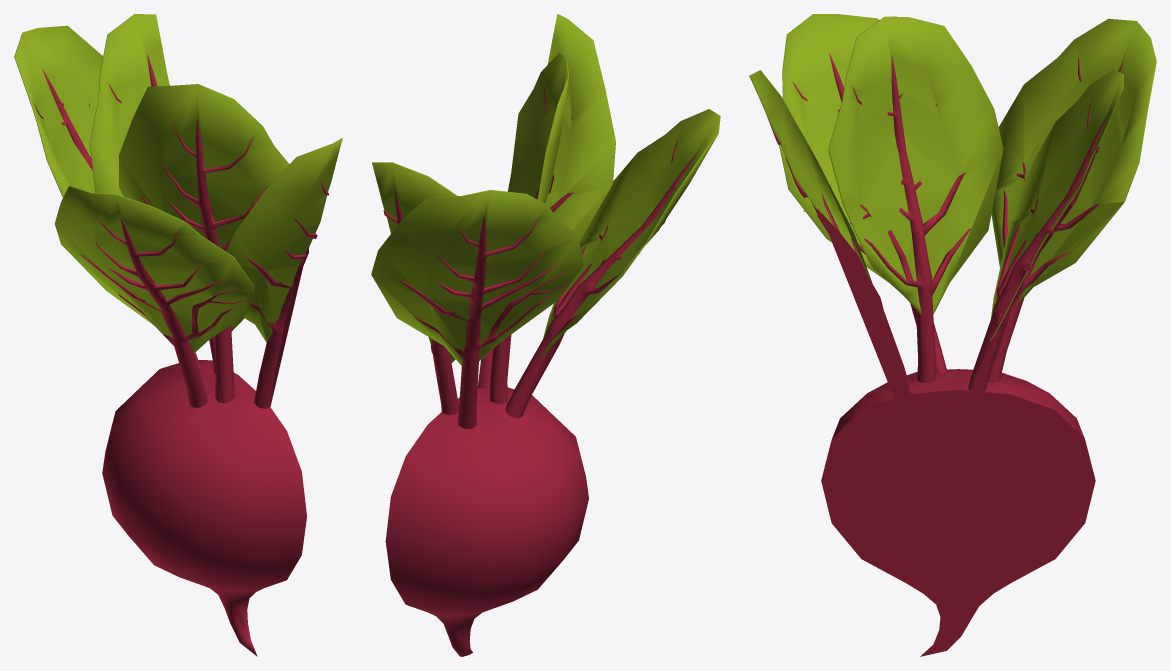
File: Beet-05_R.fbx
3 renders of one model, left to right at view 1: azimuth 30°, elevation 25°; view 2: azimuth 150°, elevation 25°; view 3: azimuth 270°, elevation 25°, orthographic.
Visible parts, largest first — view 1: Beet.R; view 2: Beet.R; view 3: Beet.R.
Part boxes in pixels (left/top/right/bottom): Beet.R: left=14, top=14, right=342, bottom=656; Beet.R: left=371, top=14, right=720, bottom=656; Beet.R: left=749, top=14, right=1156, bottom=656.
Size of the model in its own units: 29.48 by 80.94 by 49.61.
